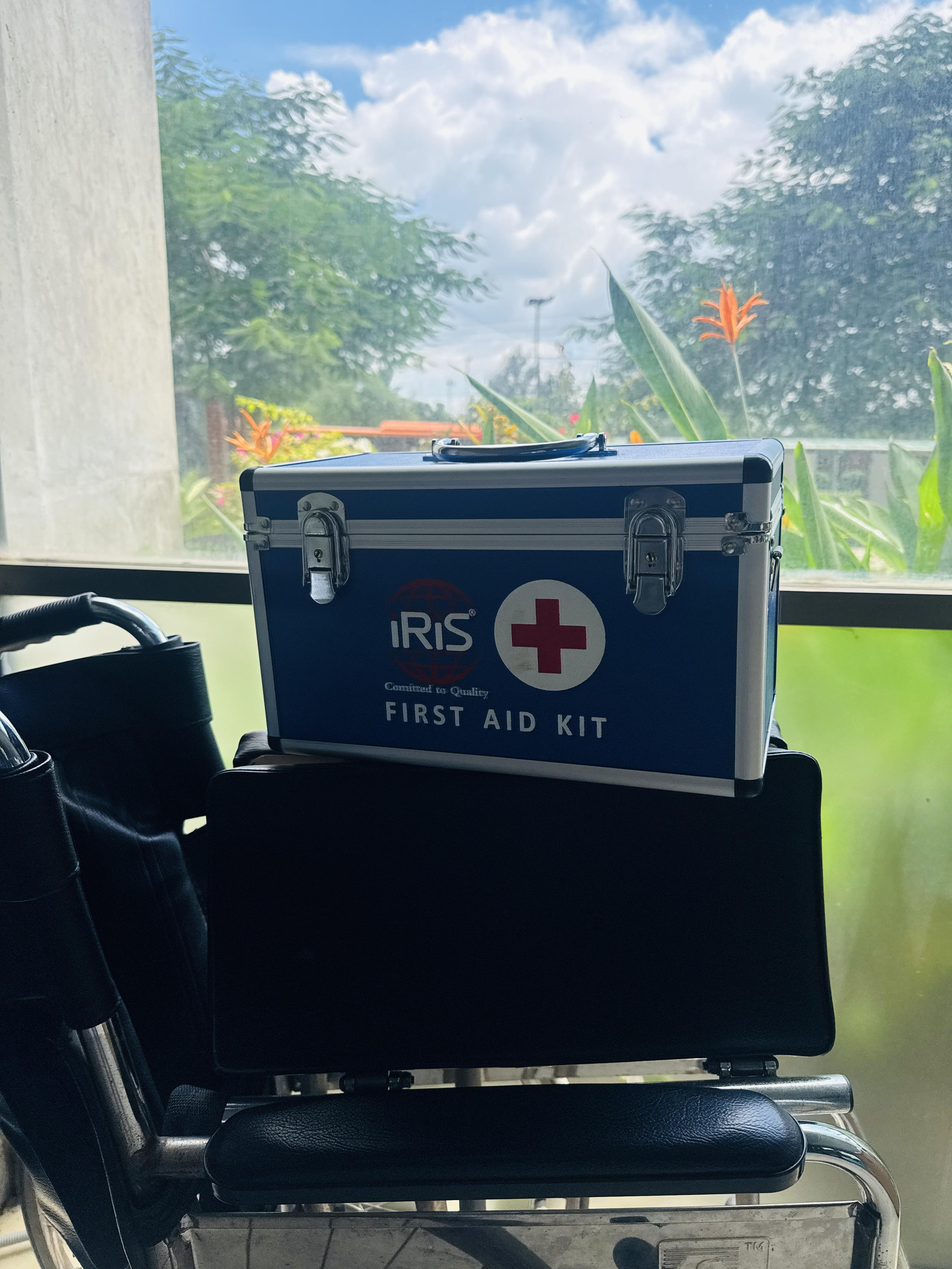FirstAidBox: (209, 418, 801, 823)
